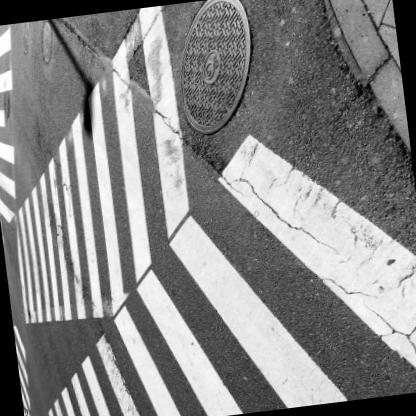manholes: (139, 0, 295, 148)
